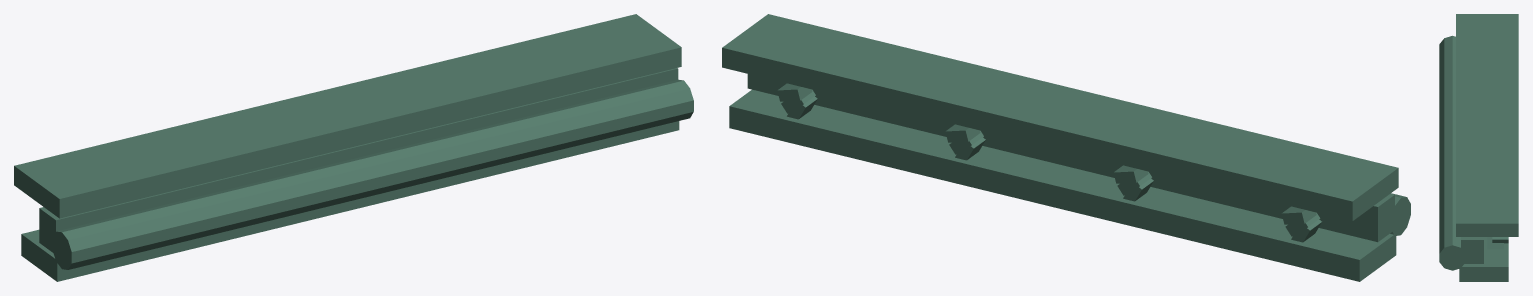
File: botanical-glasshouse-and-palm-house-botanical-glasshou-b4bb5dca__38535.glb
3 renders of one model, left to right at view 1: azimuth 30°, elevation 25°; view 2: azimuth 150°, elevation 25°; view 3: azimuth 270°, elevation 25°, orthographic. The views are drawn at different scales.
Visible parts, largest first — view 1: botanical-glasshouse-and-palm-house-curved-eaves-section; view 2: botanical-glasshouse-and-palm-house-curved-eaves-section; view 3: botanical-glasshouse-and-palm-house-curved-eaves-section.
Boxes of the visible parts, x1,y1,x2,y2 form: botanical-glasshouse-and-palm-house-curved-eaves-section: (14,14,693,281); botanical-glasshouse-and-palm-house-curved-eaves-section: (722,14,1410,281); botanical-glasshouse-and-palm-house-curved-eaves-section: (1439,14,1518,281).
Bounding box in the file's own units: 3 × 0.39 × 0.4808.
